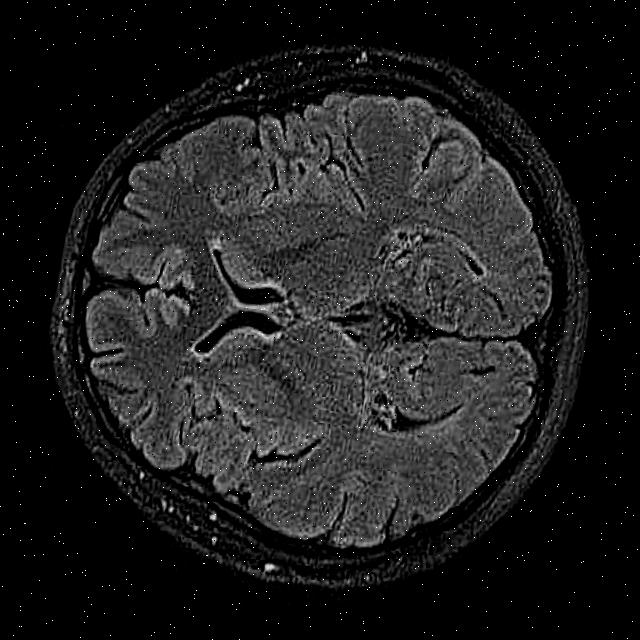NoTumor: (10, 3, 635, 622)
